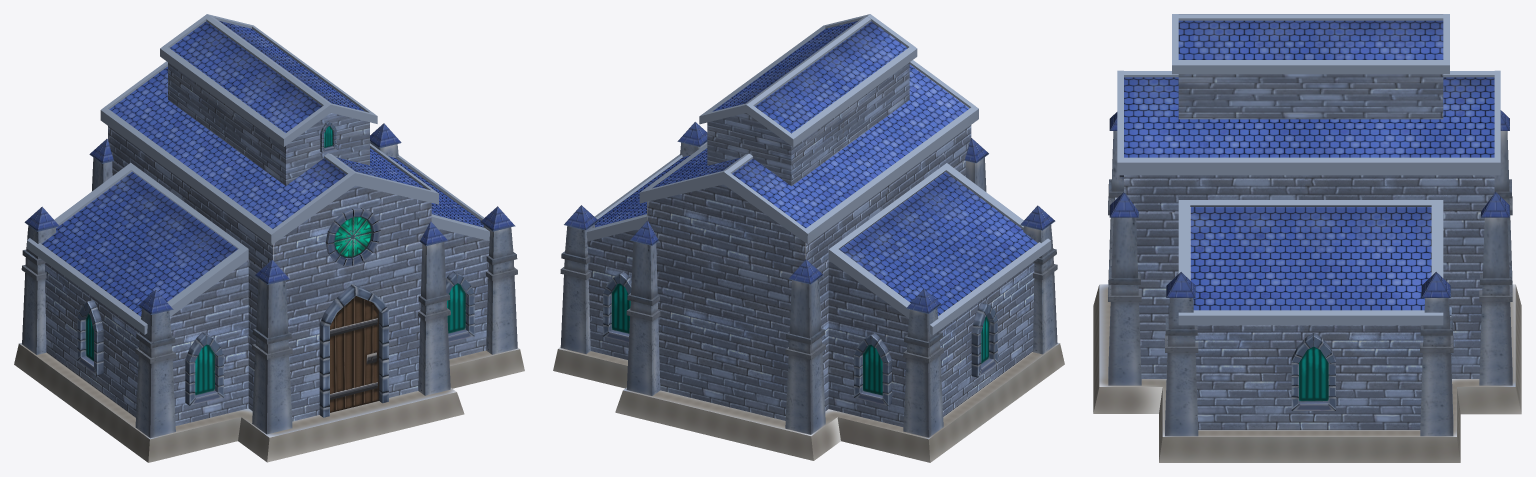
File: Clerics Guild T2.fbx
3 renders of one model, left to right at view 1: azimuth 30°, elevation 25°; view 2: azimuth 150°, elevation 25°; view 3: azimuth 270°, elevation 25°, orthographic. The views are drawn at different scales.
Parts seen in each view (by area): view 1: Window; view 2: Window; view 3: Window.
Boxes of the visible parts, bbox=[...] form: Window: bbox=[14, 14, 524, 462]; Window: bbox=[553, 14, 1064, 462]; Window: bbox=[1093, 14, 1521, 462].
Size of the model in its own units: 6.11 by 4.78 by 5.36.
1 material, 1 textured.
